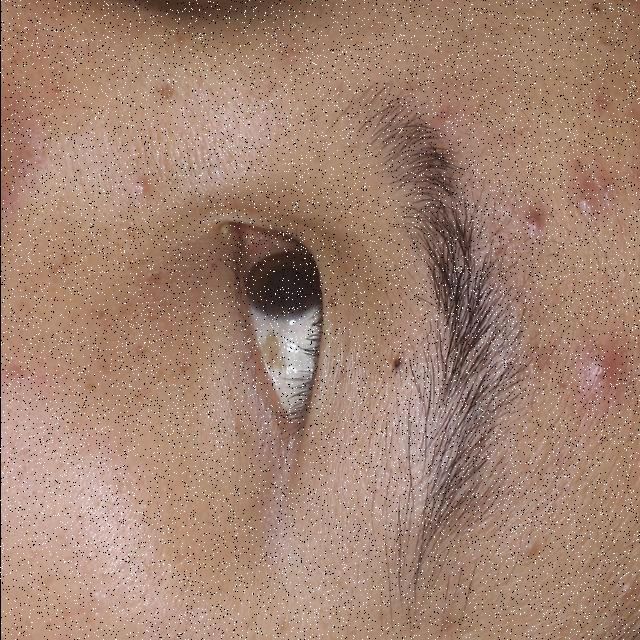nodules: (562, 329, 632, 410), (518, 203, 550, 246)
